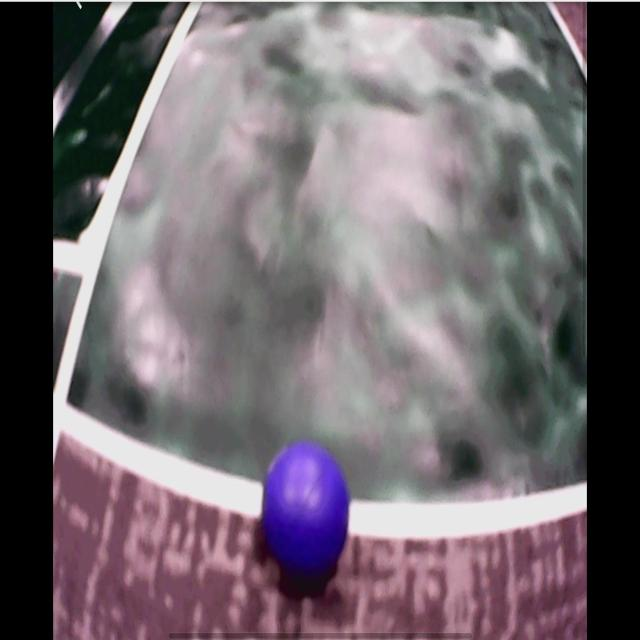ball: (264, 445, 348, 580)
